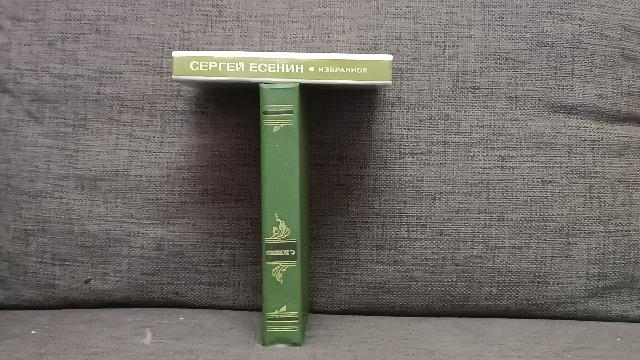book-s-spine: (259, 83, 302, 348), (172, 51, 393, 85)
